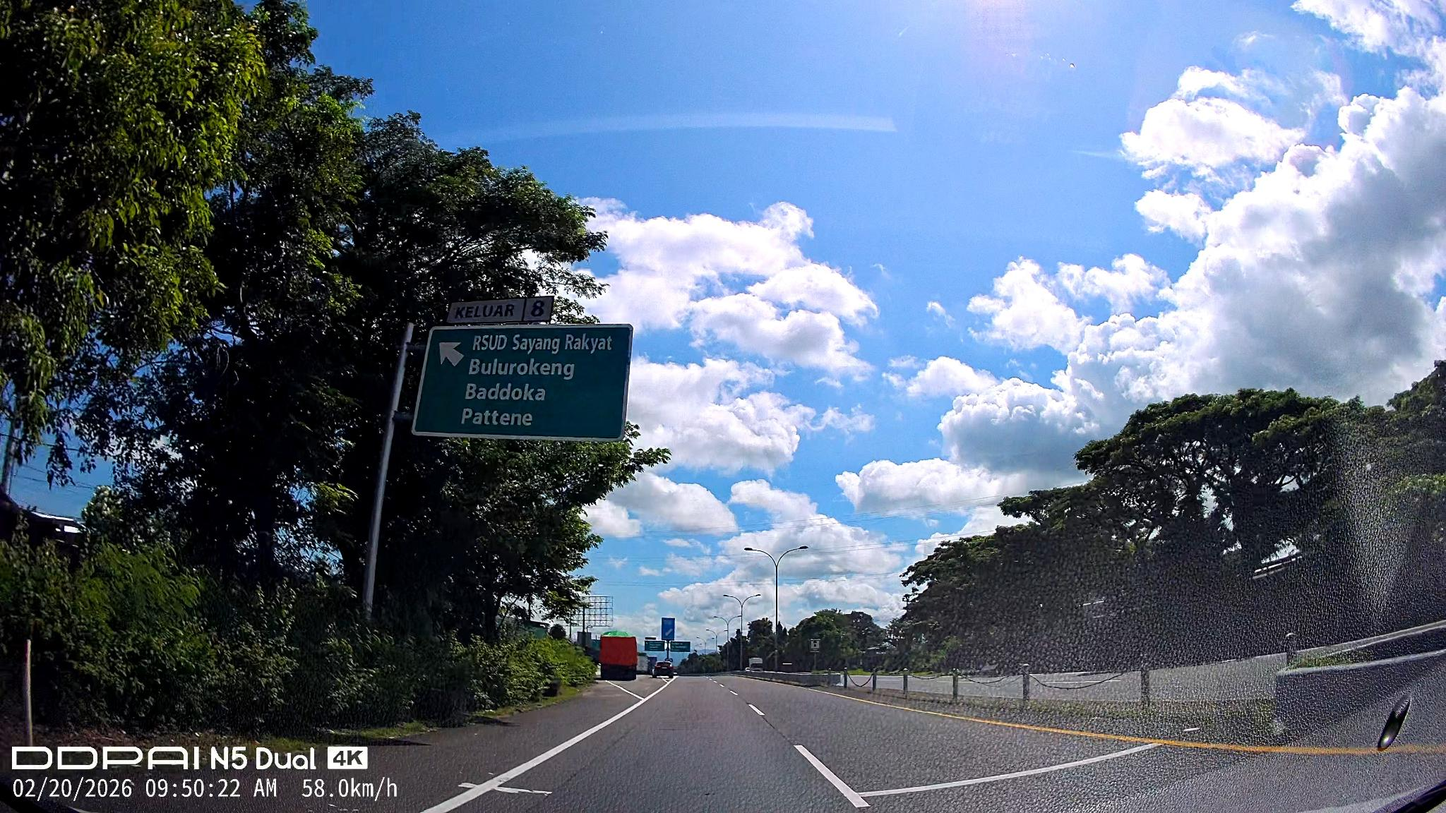rambu_teks: (409, 323, 635, 443)
